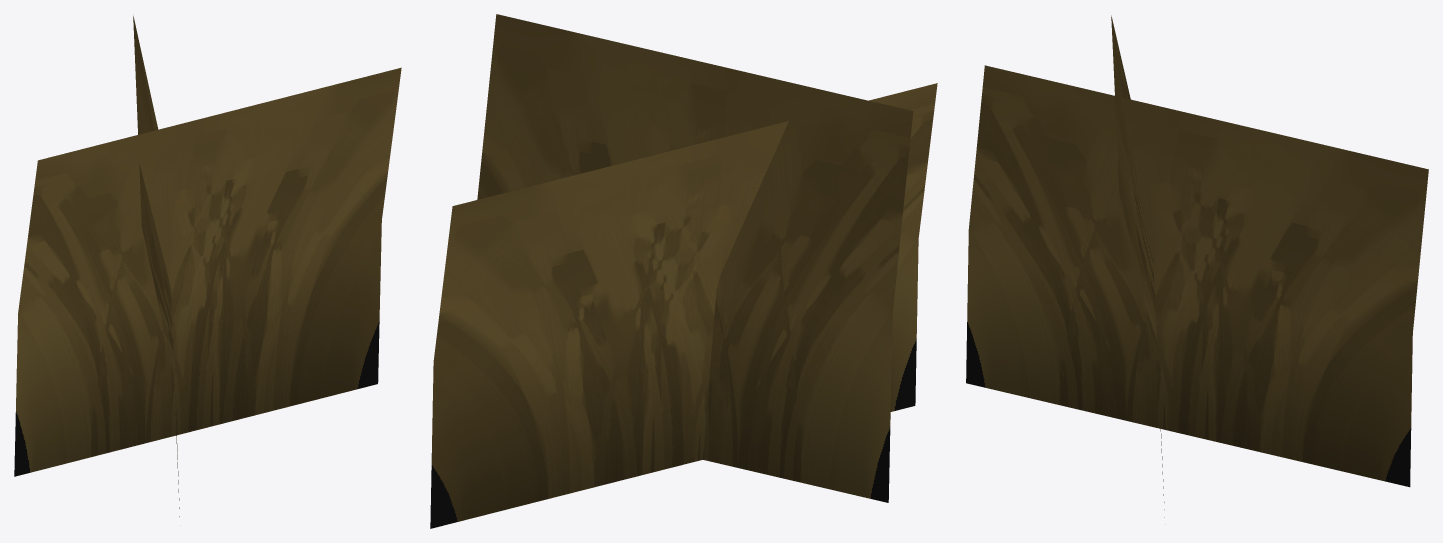
The model's file is desert_grass_1_burnt3.glb.
The picture shows the model from 3 angles, left to right: view 1: azimuth 30°, elevation 25°; view 2: azimuth 150°, elevation 25°; view 3: azimuth 270°, elevation 25°; orthographic projection. The views are drawn at different scales.
Visible parts, largest first — view 1: desert_grass_1_burnt3; view 2: desert_grass_1_burnt3; view 3: desert_grass_1_burnt3.
Boxes of the visible parts, <box> form: desert_grass_1_burnt3: <box>14,16,401,516</box>; desert_grass_1_burnt3: <box>430,14,937,528</box>; desert_grass_1_burnt3: <box>966,15,1428,517</box>.
Size of the model in its own units: 0.5267 by 0.4544 by 0.5693.
1 material, 1 textured.
